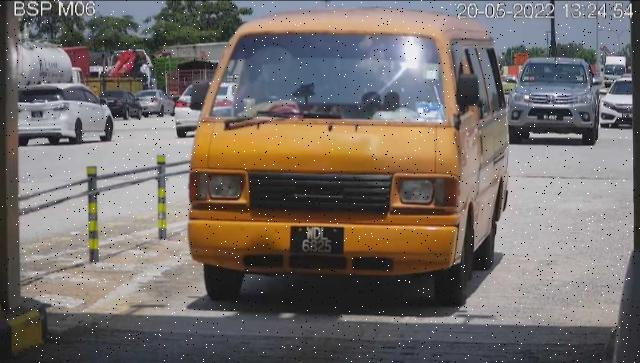License_Plate: (290, 221, 346, 262)
van: (189, 9, 509, 306)
